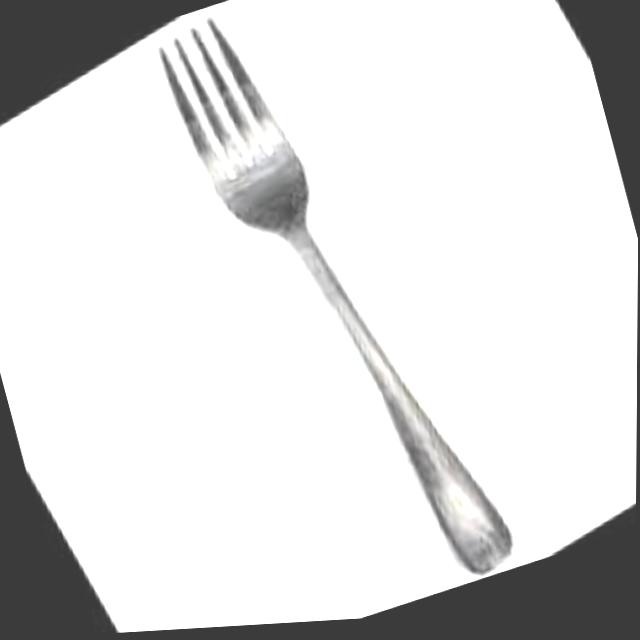Fork: (159, 17, 511, 573)
